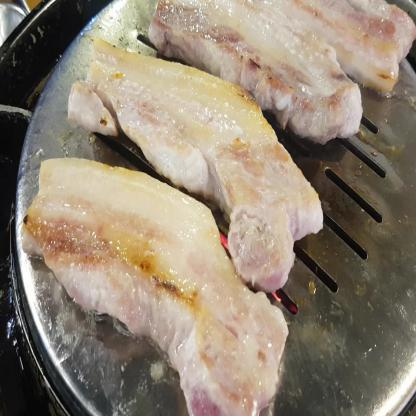pork: (64, 0, 392, 415)
